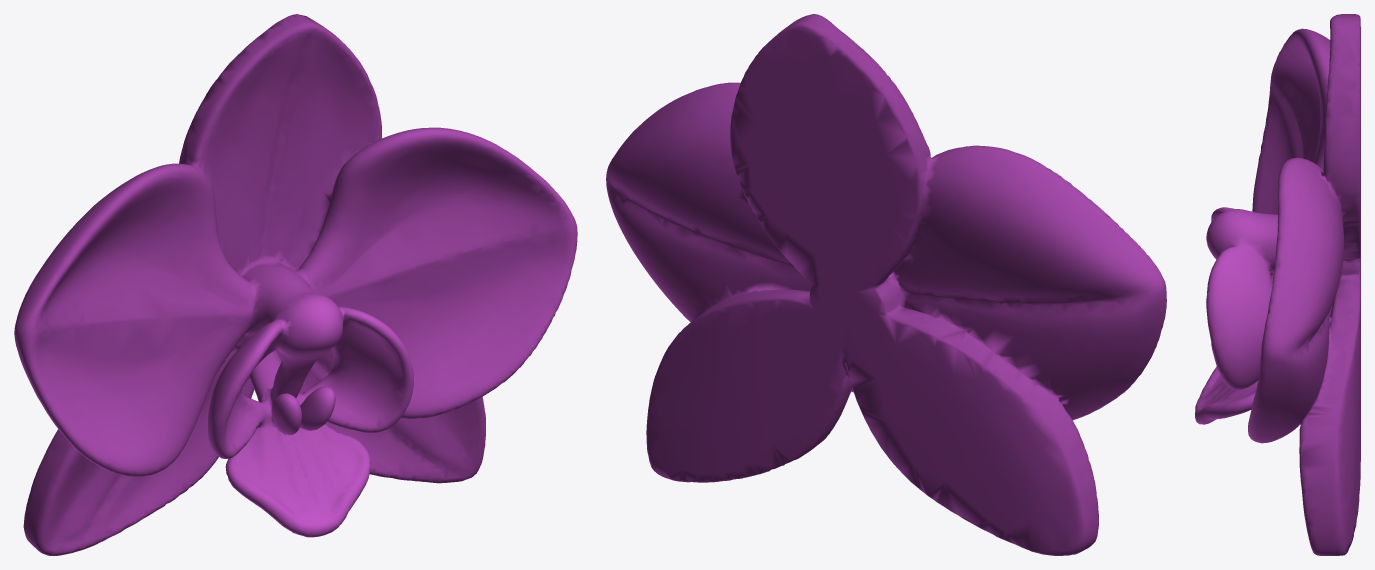
File: orchid.glb
3 renders of one model, left to right at view 1: azimuth 30°, elevation 25°; view 2: azimuth 150°, elevation 25°; view 3: azimuth 270°, elevation 25°, orthographic. The views are drawn at different scales.
Visible parts, largest first — view 1: orchid; view 2: orchid; view 3: orchid.
Boxes of the visible parts, <box> form: orchid: <box>14,14,577,555</box>; orchid: <box>606,14,1166,555</box>; orchid: <box>1195,14,1360,555</box>.
Bounding box in the file's own units: 1 × 0.8443 × 0.2719.
